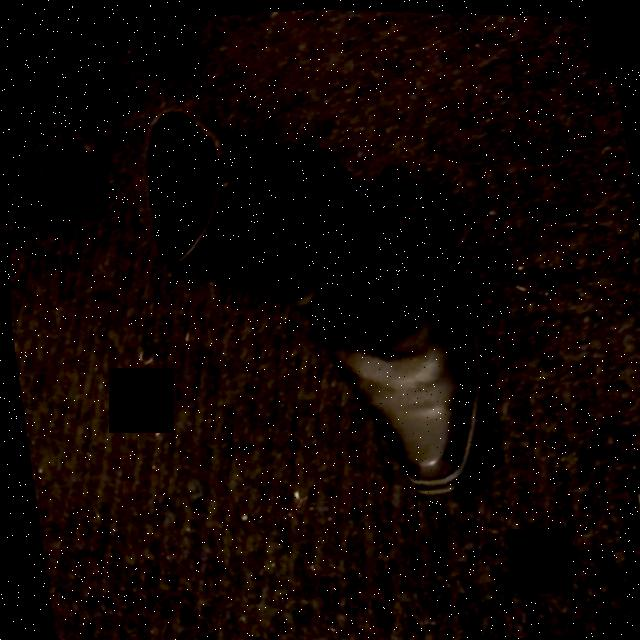shoe: (142, 110, 493, 490)
